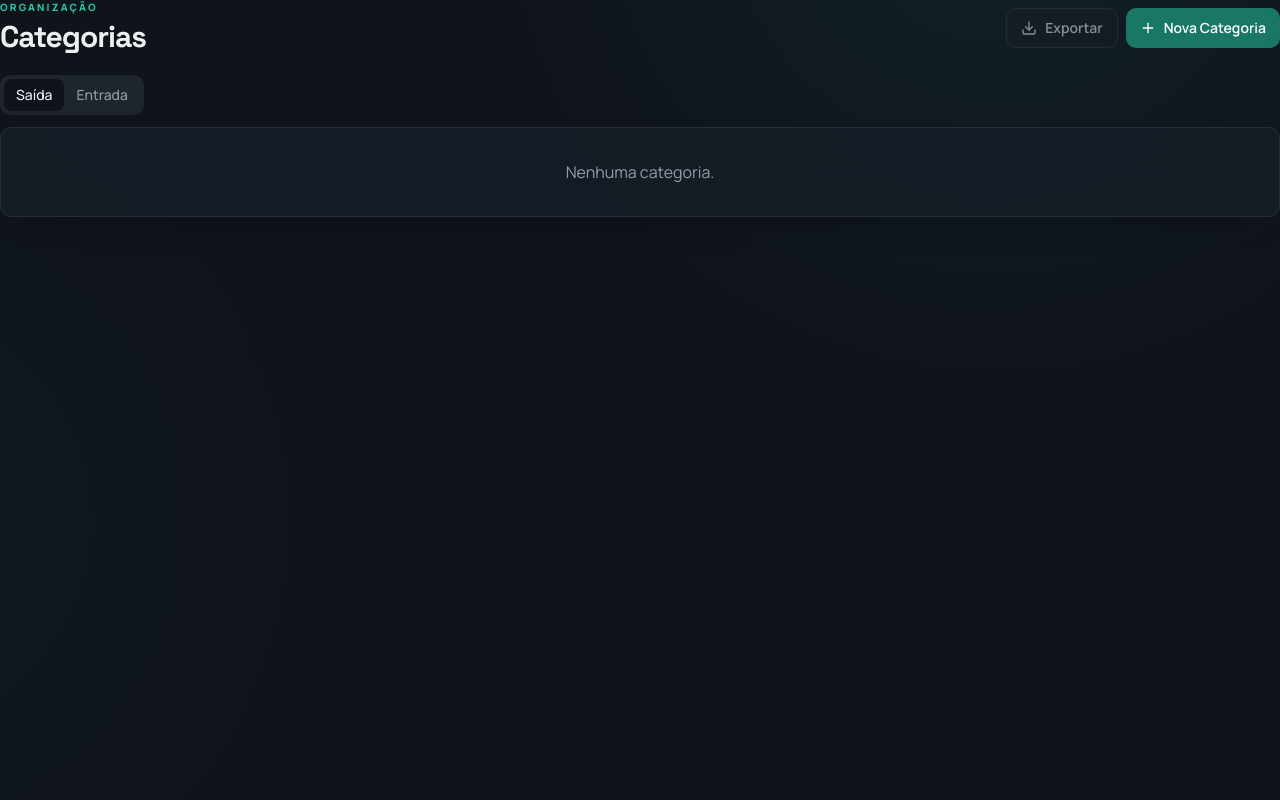
Test: Categories monthly budget › rejects the non-positive budget 0
Click the button "Nova Categoria": (1203, 28) [1126,8,1279,48]
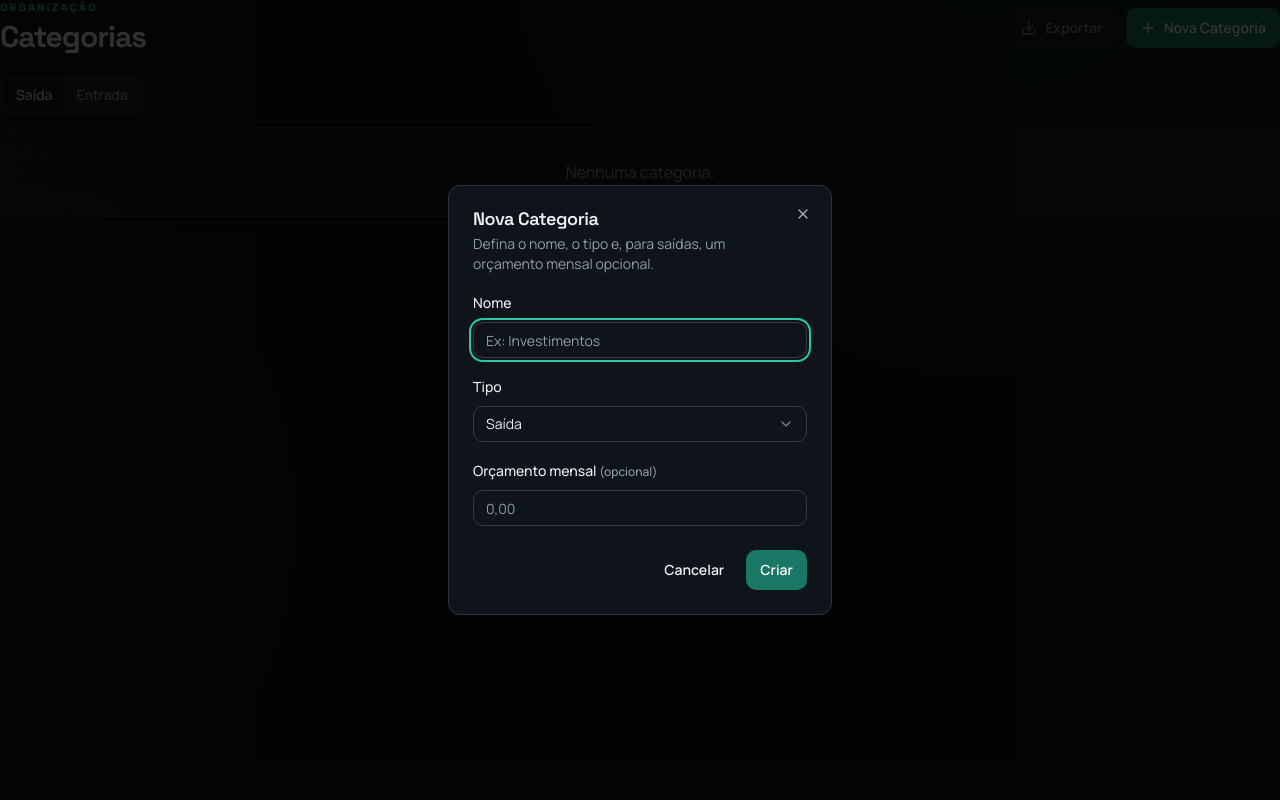
In the field with placeholder "Ex: Investimentos": (640, 340) [473,322,807,358], type "Mercado"
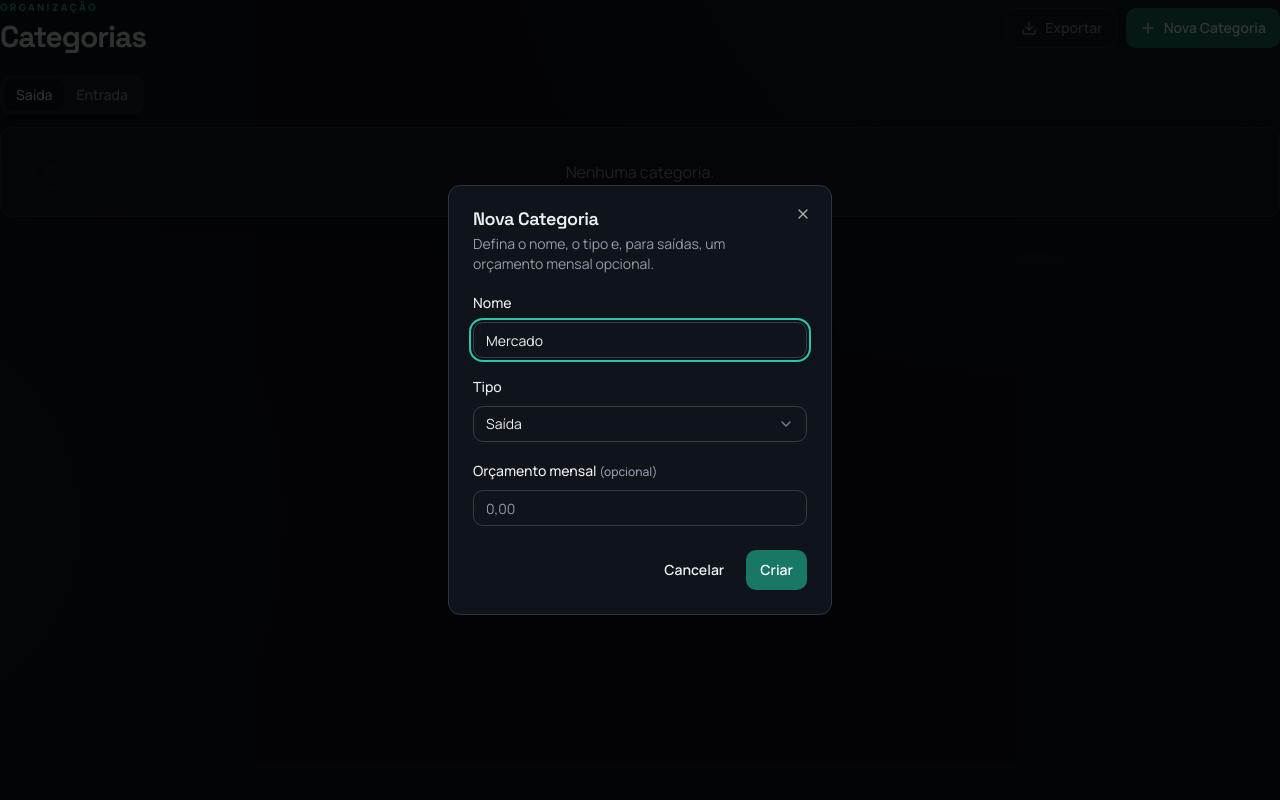
In the number field: (640, 508) [473,490,807,526], type "0"
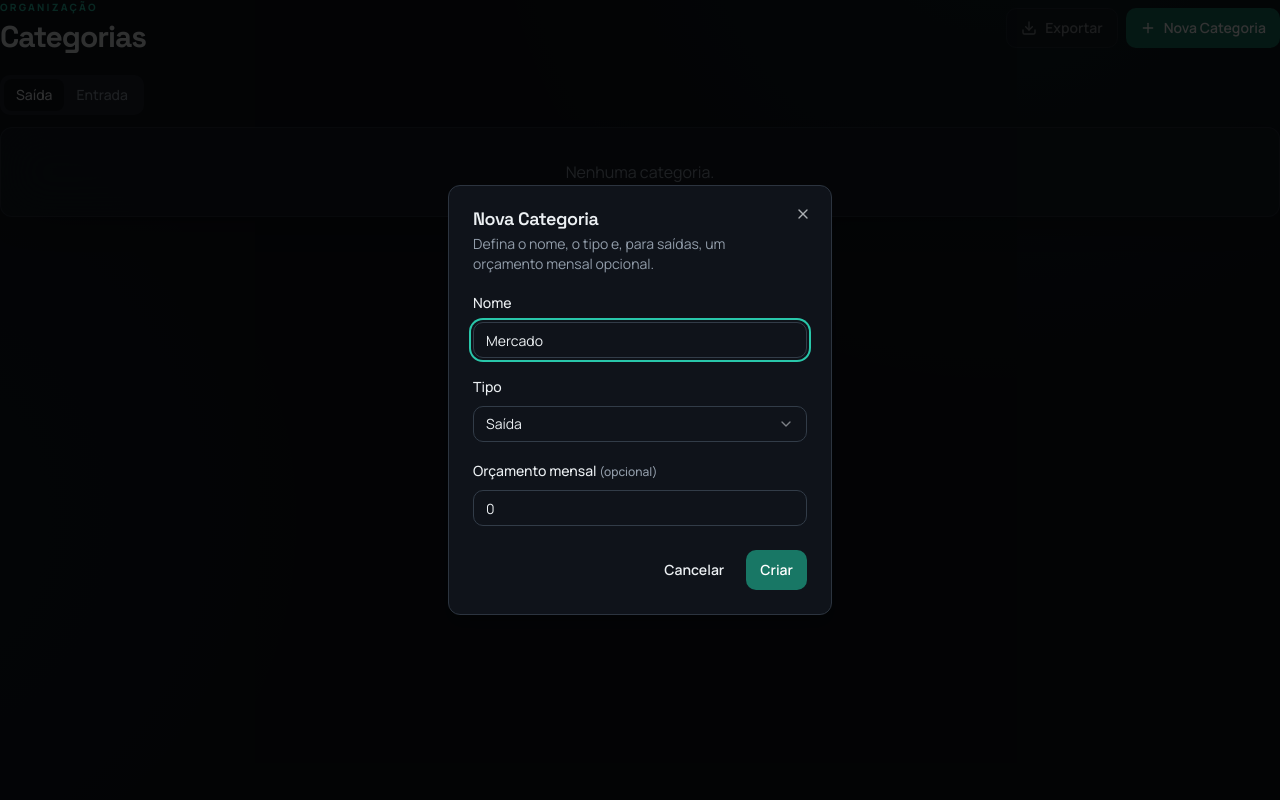
Submit the form with placeholder "Ex: Investimentos", box [473,290,807,590]
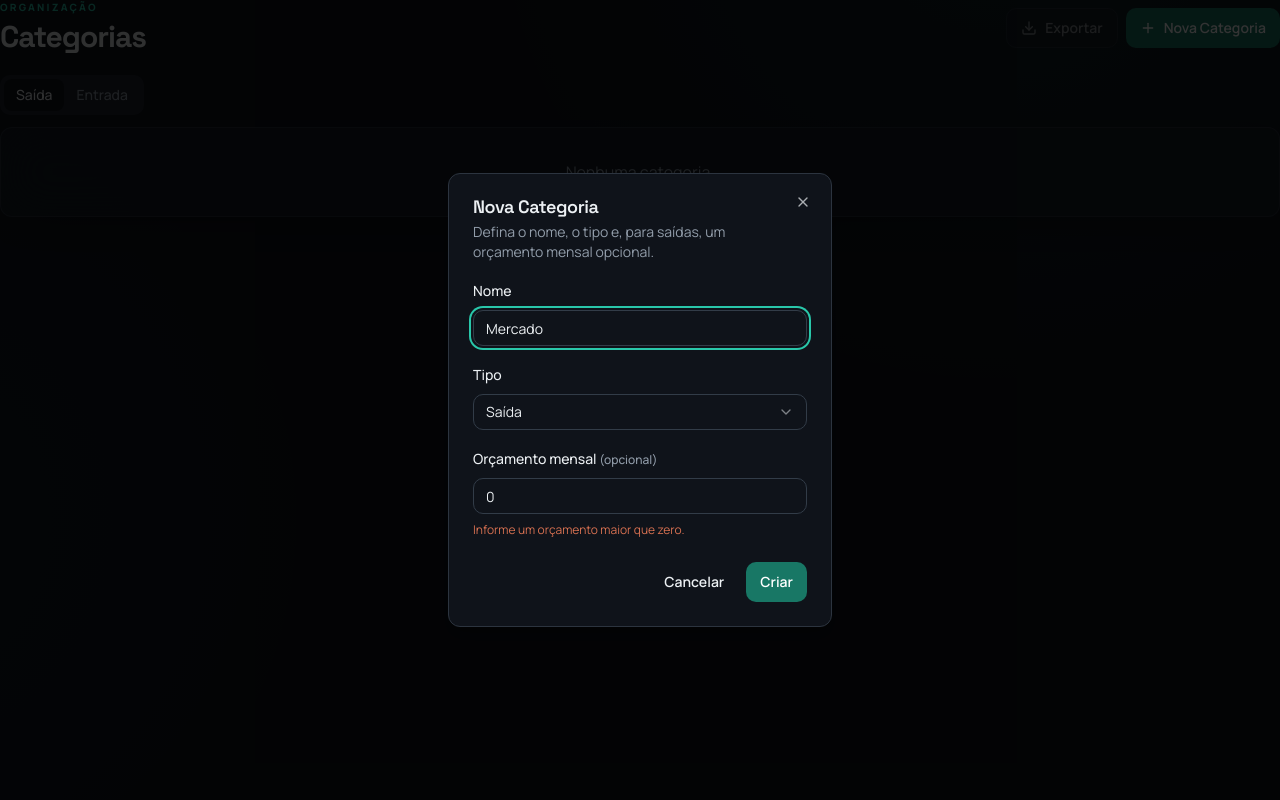
Now the text "Informe um orçamento maior que zero." is shown, box [473,521,684,538]
